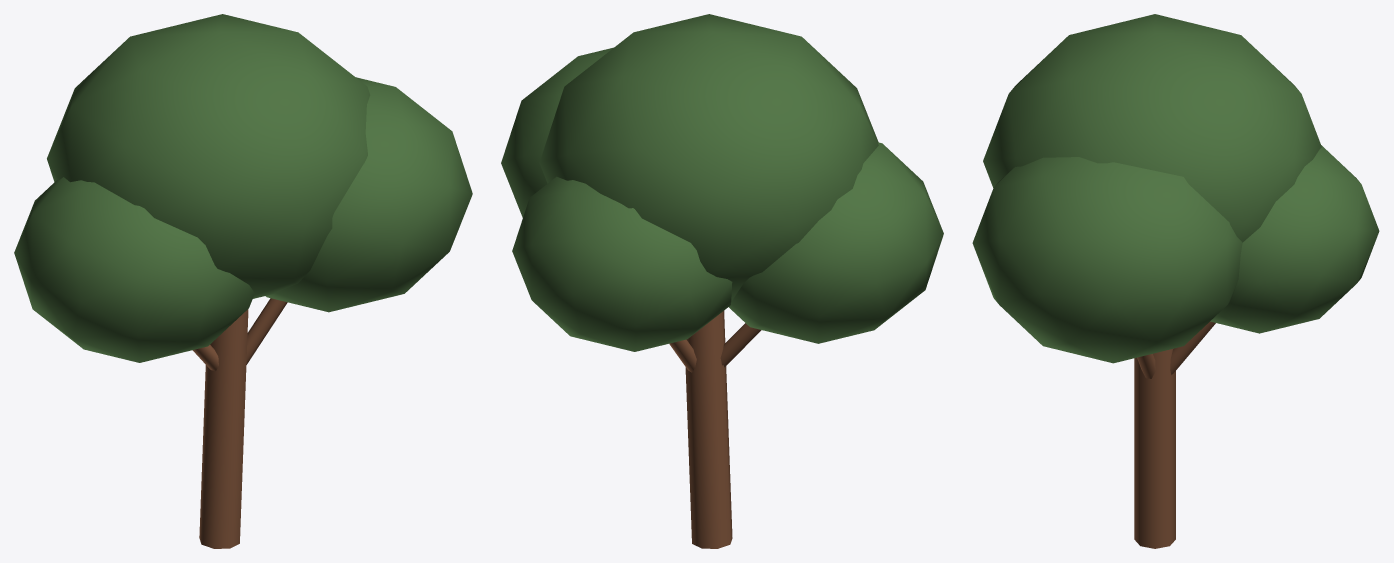
File: tree.glb
3 renders of one model, left to right at view 1: azimuth 30°, elevation 25°; view 2: azimuth 150°, elevation 25°; view 3: azimuth 270°, elevation 25°, orthographic.
Parts seen in each view (by area): view 1: Rain_tree_Garden_foliage, Rain_tree_Teak; view 2: Rain_tree_Garden_foliage, Rain_tree_Teak; view 3: Rain_tree_Garden_foliage, Rain_tree_Teak.
Part boxes in pixels (x1,y1,x2,y2): Rain_tree_Garden_foliage: [14, 14, 472, 362]; Rain_tree_Teak: [192, 298, 287, 548]; Rain_tree_Garden_foliage: [501, 14, 943, 351]; Rain_tree_Teak: [669, 310, 761, 548]; Rain_tree_Garden_foliage: [972, 14, 1379, 363]; Rain_tree_Teak: [1134, 321, 1215, 548].
Size of the model in its own units: 4.57 by 5.36 by 3.9.
